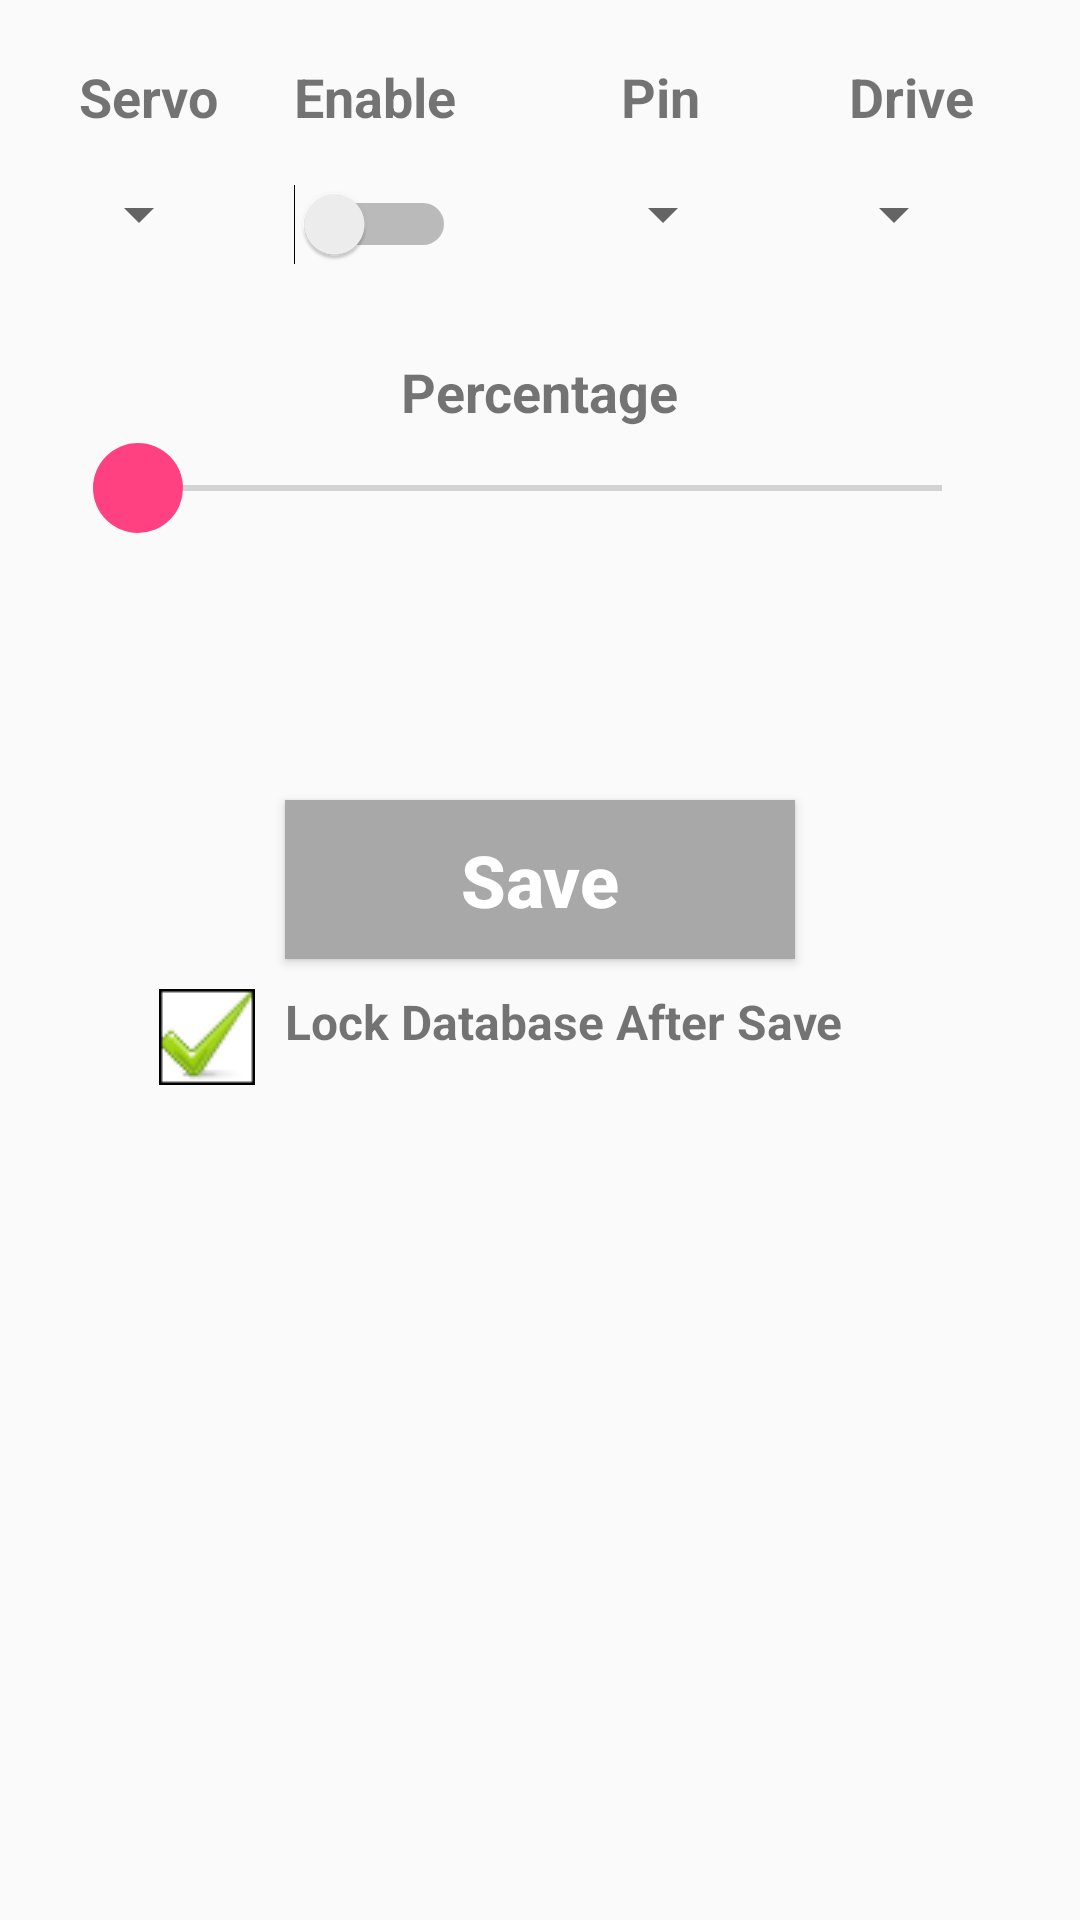

Icon bounding boxes for this 1080 × 1920 phone screenshot, format [x1=x1, y1=y1, x2=x2, y2=y2]:
ticked: [x1=159, y1=989, x2=255, y2=1085]
